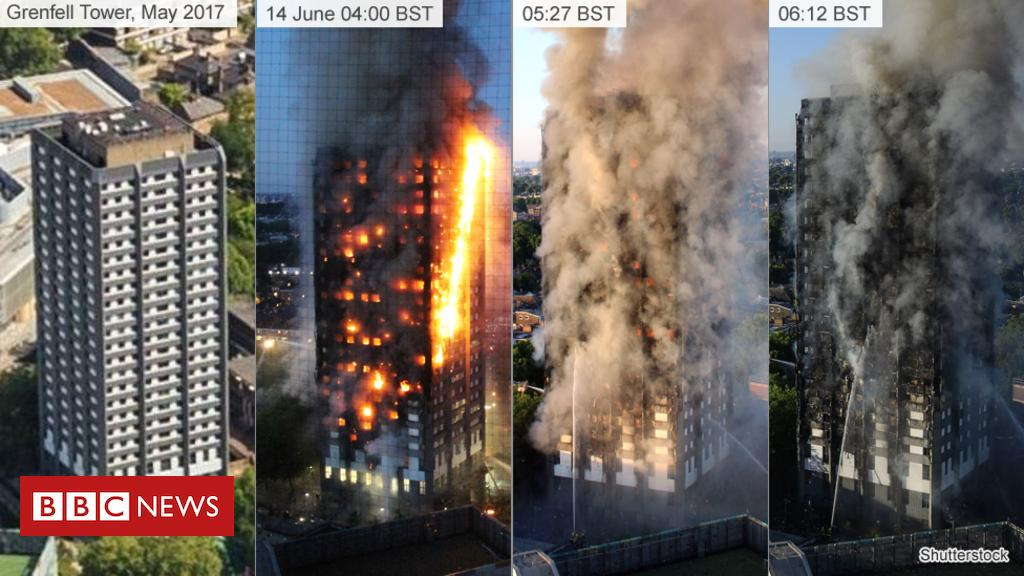Fire: (322, 119, 489, 441)
